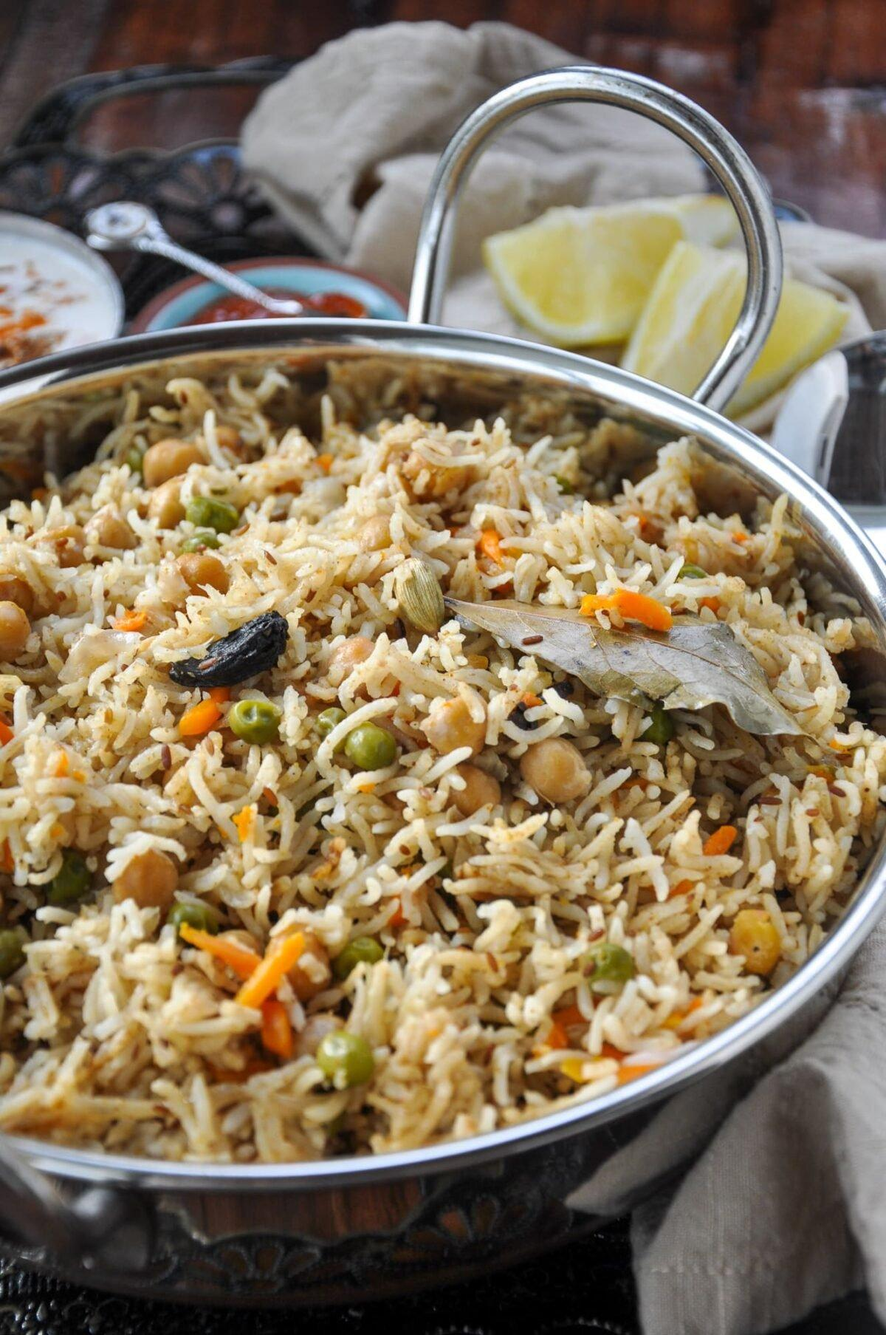veg-pulao: (23, 378, 822, 1080)
